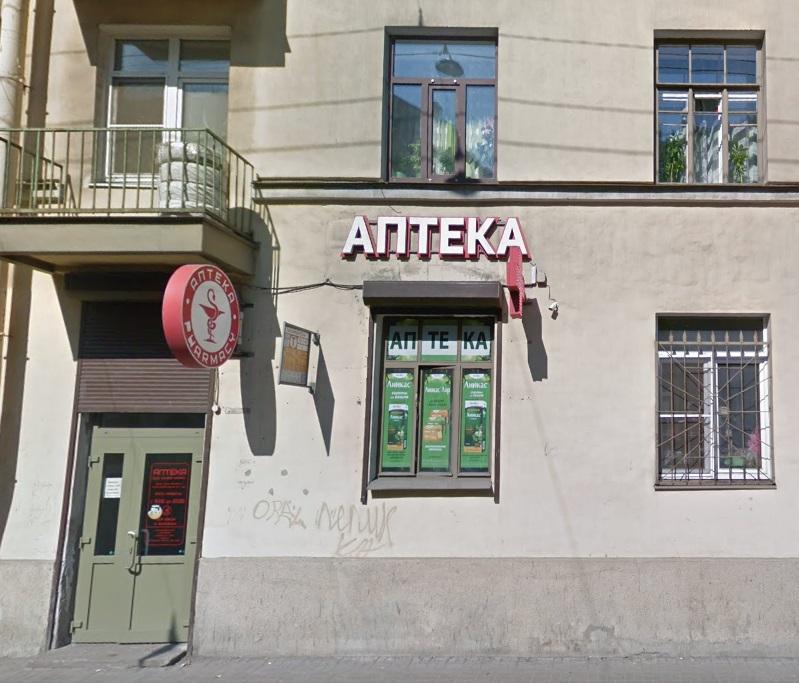cantilever: (154, 254, 267, 375), (504, 247, 538, 321)
door: (78, 428, 190, 647)
signboard: (330, 209, 532, 264)
window: (385, 317, 497, 491), (657, 318, 766, 483), (101, 40, 231, 178), (384, 35, 498, 180), (656, 40, 759, 183)
